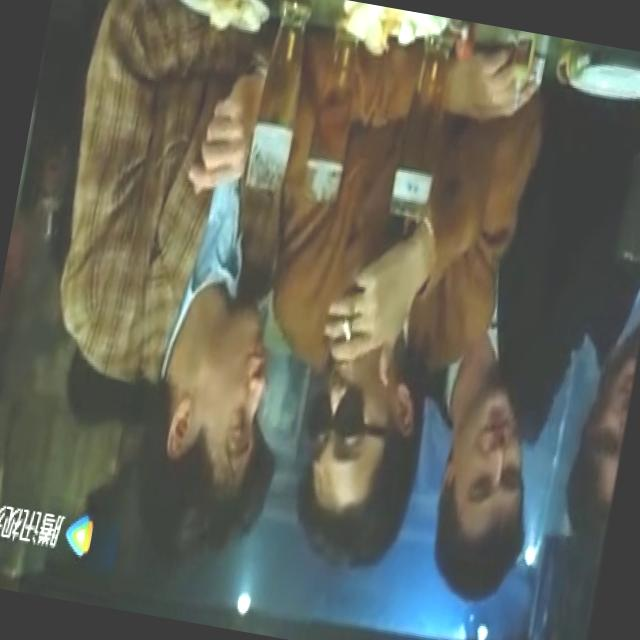smoke: (338, 318, 355, 342)
